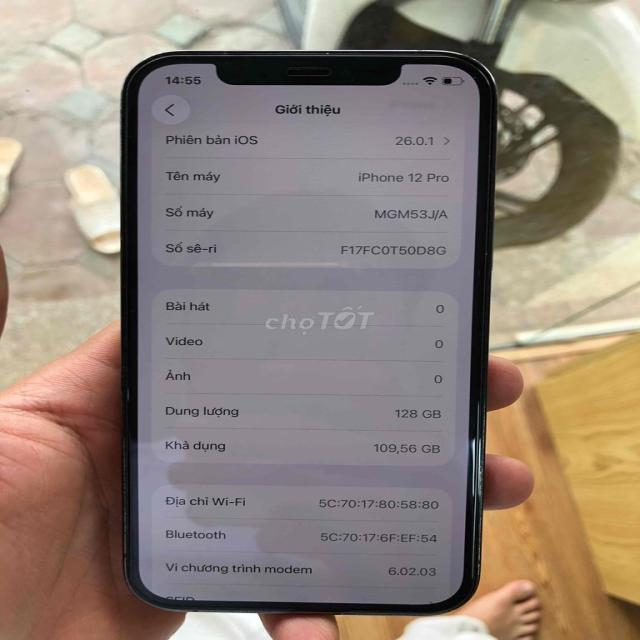gen_12_13: (111, 46, 503, 614)
